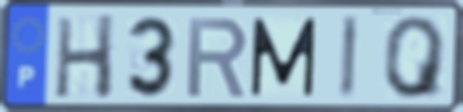3: (124, 13, 178, 100)
H: (52, 12, 118, 102)
I: (337, 13, 362, 102)
M: (249, 15, 319, 100)
Q: (381, 13, 450, 101)
R: (185, 14, 251, 100)
